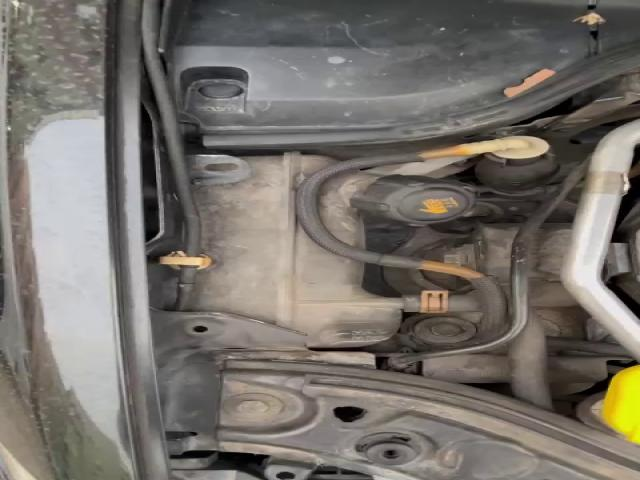antifreeze_tank: (190, 152, 404, 348), (320, 171, 475, 248)
